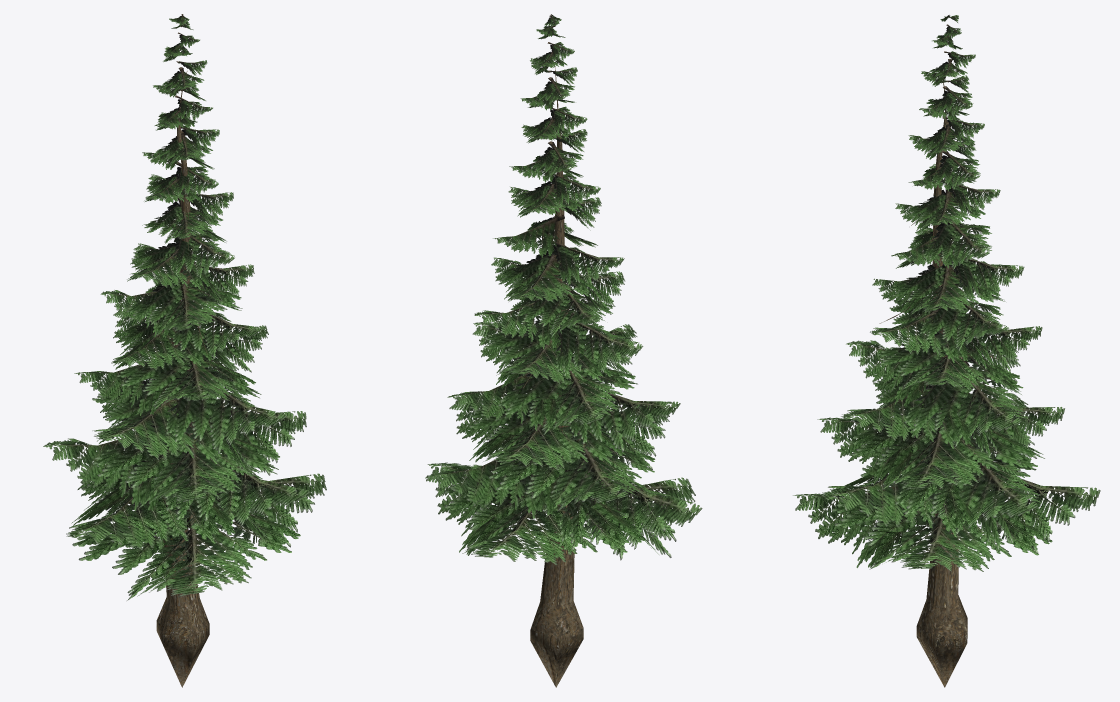
File: forest_PineTree1.fbx
3 views of the same model, side by side, from view 1: azimuth 30°, elevation 25°; view 2: azimuth 150°, elevation 25°; view 3: azimuth 270°, elevation 25° (orthographic).
Parts seen in each view (by area): view 1: RHE_SpruceA_Leaves; view 2: RHE_SpruceA_Leaves; view 3: RHE_SpruceA_Leaves.
Boxes of the visible parts, left/top/right/bottom form: RHE_SpruceA_Leaves: left=43, top=14, right=326, bottom=687; RHE_SpruceA_Leaves: left=425, top=14, right=702, bottom=687; RHE_SpruceA_Leaves: left=793, top=15, right=1100, bottom=687.
Bounding box in the file's own units: 11.31 × 25.75 × 11.4.
